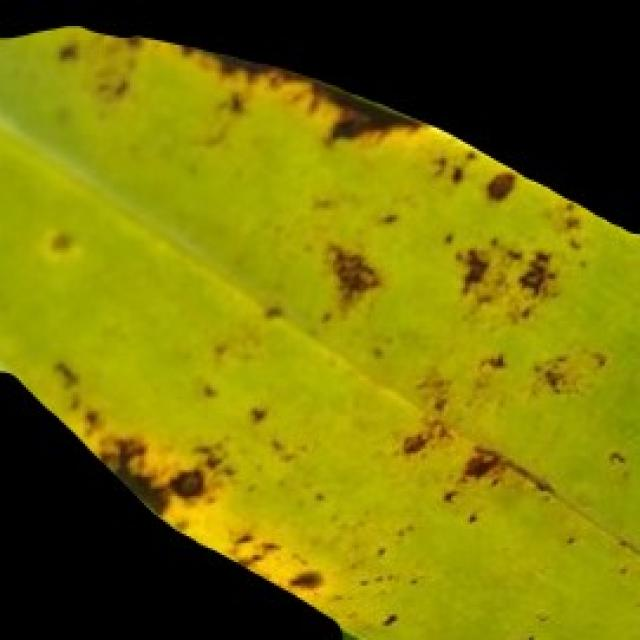mite: (168, 465, 205, 498)
spots: (0, 21, 638, 638)
